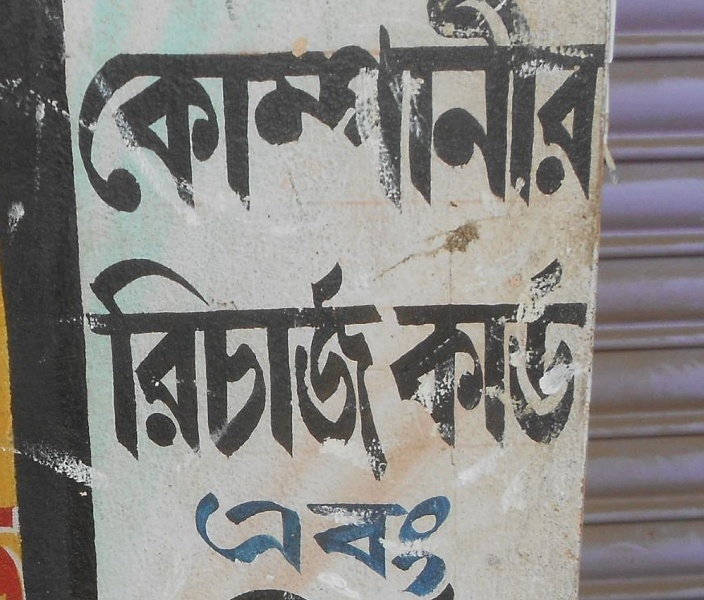text: (97, 254, 112, 480), (113, 254, 128, 480), (129, 254, 144, 480), (145, 254, 160, 480), (161, 254, 176, 480), (177, 254, 192, 480), (193, 254, 208, 480), (209, 254, 224, 480), (225, 254, 240, 480), (241, 254, 256, 480), (257, 254, 272, 480), (273, 254, 288, 480), (289, 254, 304, 480), (305, 254, 320, 480), (321, 254, 336, 480), (337, 254, 352, 480), (353, 254, 368, 480), (369, 254, 384, 480), (65, 1, 80, 217), (81, 1, 96, 217), (97, 1, 112, 217), (113, 1, 128, 217), (129, 1, 144, 217), (145, 1, 160, 217), (161, 1, 176, 217), (177, 1, 192, 217), (193, 1, 208, 217), (209, 1, 224, 217), (225, 1, 240, 217), (241, 1, 256, 217), (257, 1, 272, 217), (273, 1, 288, 217), (289, 1, 304, 217), (305, 1, 320, 217), (321, 1, 336, 217), (337, 1, 352, 217), (353, 1, 368, 217), (369, 1, 384, 217), (385, 1, 400, 217), (401, 1, 416, 217), (417, 1, 432, 217), (433, 1, 448, 217), (449, 1, 464, 217), (465, 1, 480, 217), (481, 1, 496, 217), (497, 1, 512, 217), (513, 1, 528, 217), (529, 1, 544, 217), (545, 1, 560, 217), (561, 1, 576, 217), (577, 1, 592, 217), (593, 1, 608, 217), (83, 254, 96, 480), (401, 253, 416, 447), (417, 253, 432, 447), (433, 253, 448, 447), (449, 253, 464, 447), (465, 253, 480, 447), (481, 253, 496, 447), (497, 253, 512, 447), (513, 253, 528, 447), (529, 253, 544, 447), (545, 253, 560, 447), (561, 253, 576, 447), (577, 253, 589, 447), (385, 254, 395, 480), (17, 496, 32, 599), (33, 496, 48, 599), (209, 494, 224, 595), (225, 494, 240, 595), (241, 494, 256, 595), (257, 494, 272, 595), (273, 494, 288, 595), (289, 494, 304, 595), (305, 494, 320, 595), (321, 494, 336, 595), (337, 494, 352, 595), (353, 494, 368, 595), (369, 494, 384, 595), (385, 494, 400, 595), (401, 494, 416, 595), (417, 494, 432, 595), (433, 494, 448, 595), (3, 496, 16, 599), (49, 496, 61, 599), (197, 494, 208, 595), (59, 1, 64, 217), (395, 253, 400, 447), (609, 1, 612, 217), (449, 494, 454, 595), (225, 585, 240, 599), (241, 585, 256, 599), (257, 585, 272, 599), (273, 585, 288, 599), (289, 585, 304, 599), (305, 585, 320, 599), (321, 585, 336, 599), (337, 585, 352, 599), (353, 585, 368, 599), (369, 585, 384, 599), (385, 585, 400, 599), (401, 585, 416, 599), (417, 585, 432, 599), (433, 585, 448, 599), (449, 585, 464, 599), (465, 585, 480, 599), (214, 585, 224, 599), (481, 585, 484, 599)
